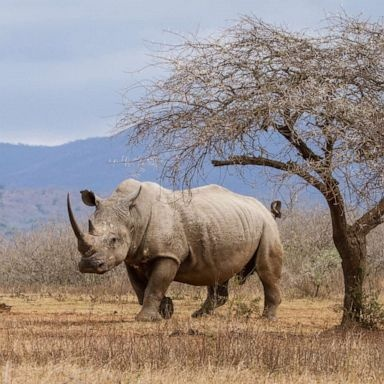rhino: (65, 179, 285, 320)
